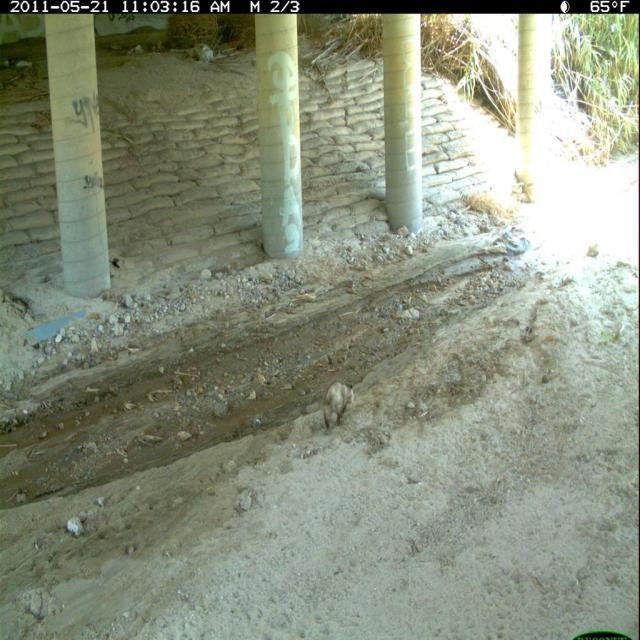opossum: (322, 381, 358, 433)
